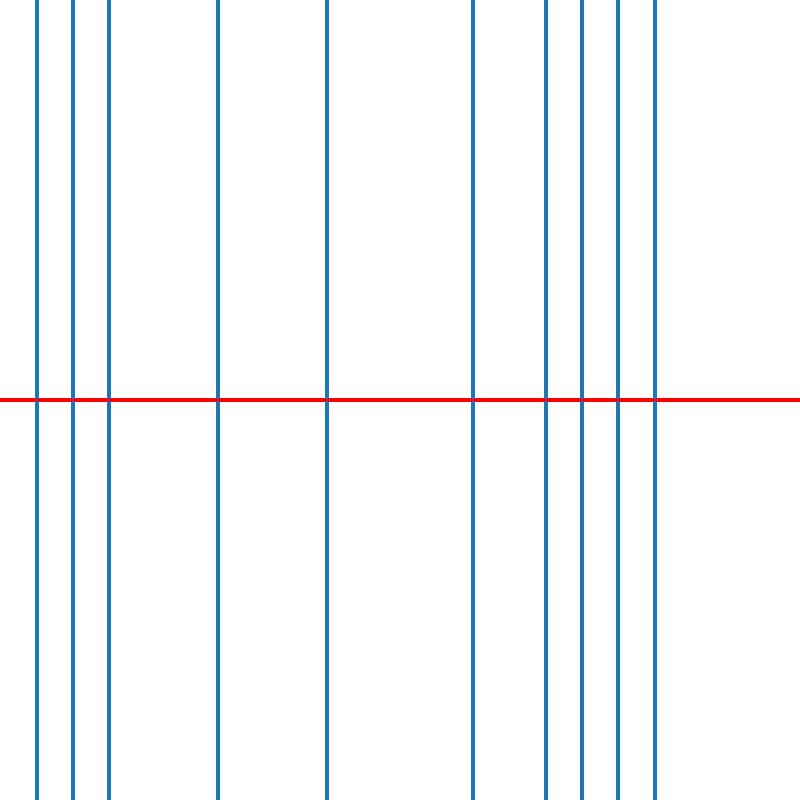root: (650, 396, 658, 404), (541, 396, 549, 404), (32, 396, 40, 404), (469, 396, 476, 404), (69, 396, 76, 404), (105, 396, 112, 404), (323, 396, 330, 404), (578, 396, 585, 404), (614, 396, 621, 404), (214, 396, 221, 404)
